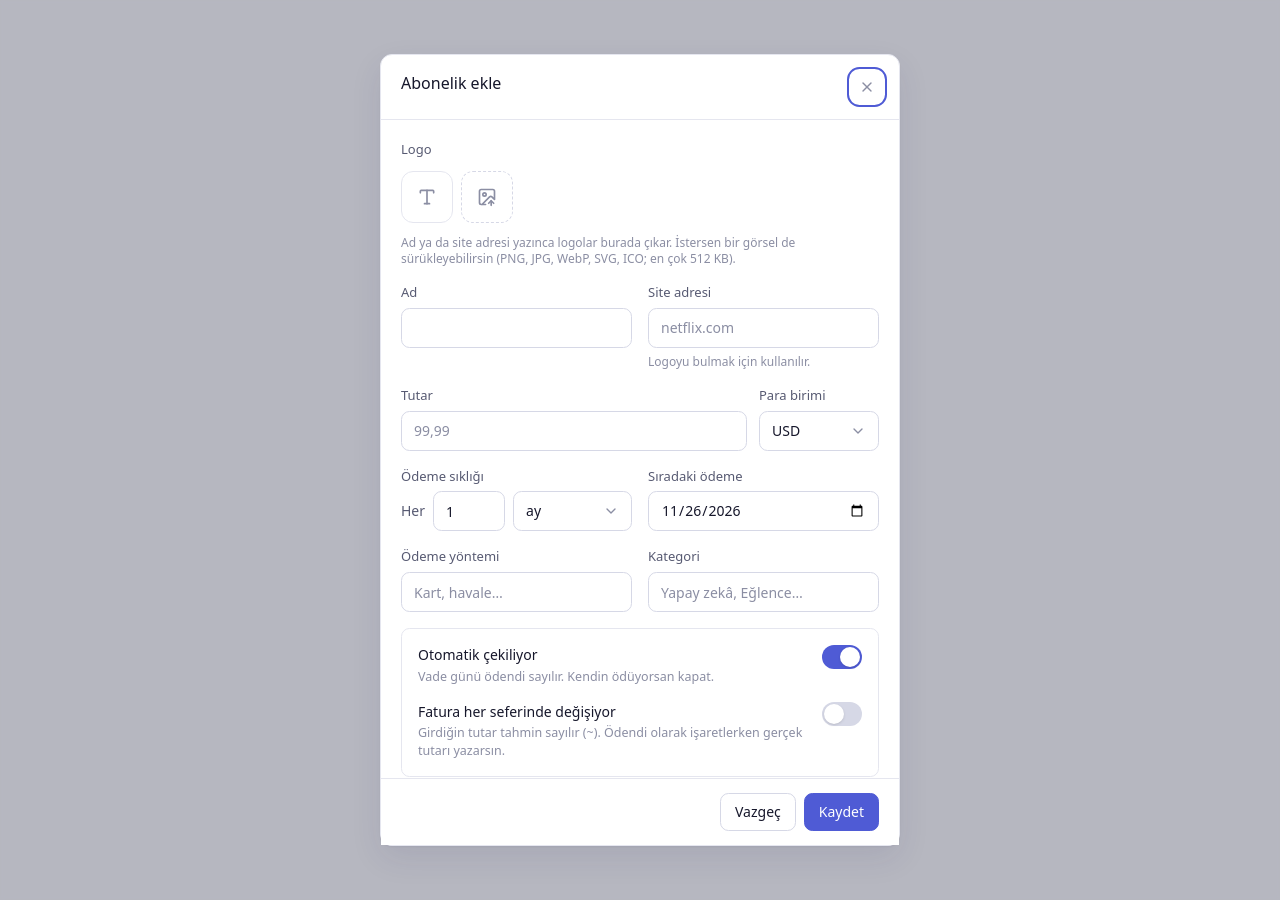
SubscriptionForm › choosing a catalog suggestion fills name, website, category and cycle
In the field labelled "Ad": coordinates (516, 328) x1=401 y1=308 x2=632 y2=348, type "netf"
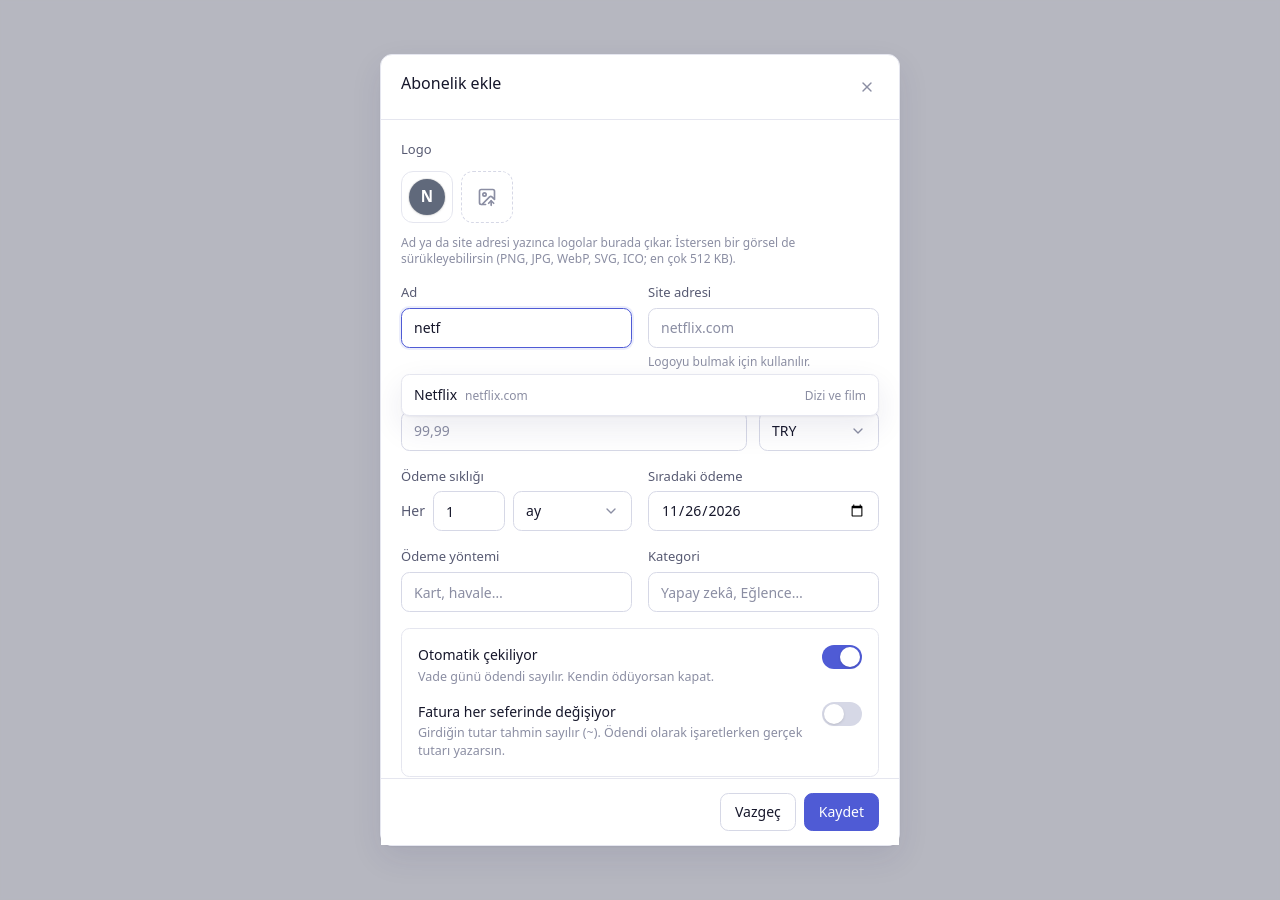
Click the option "Netflix netflix.com Dizi ve film": coordinates (436, 394) x1=402 y1=375 x2=878 y2=415
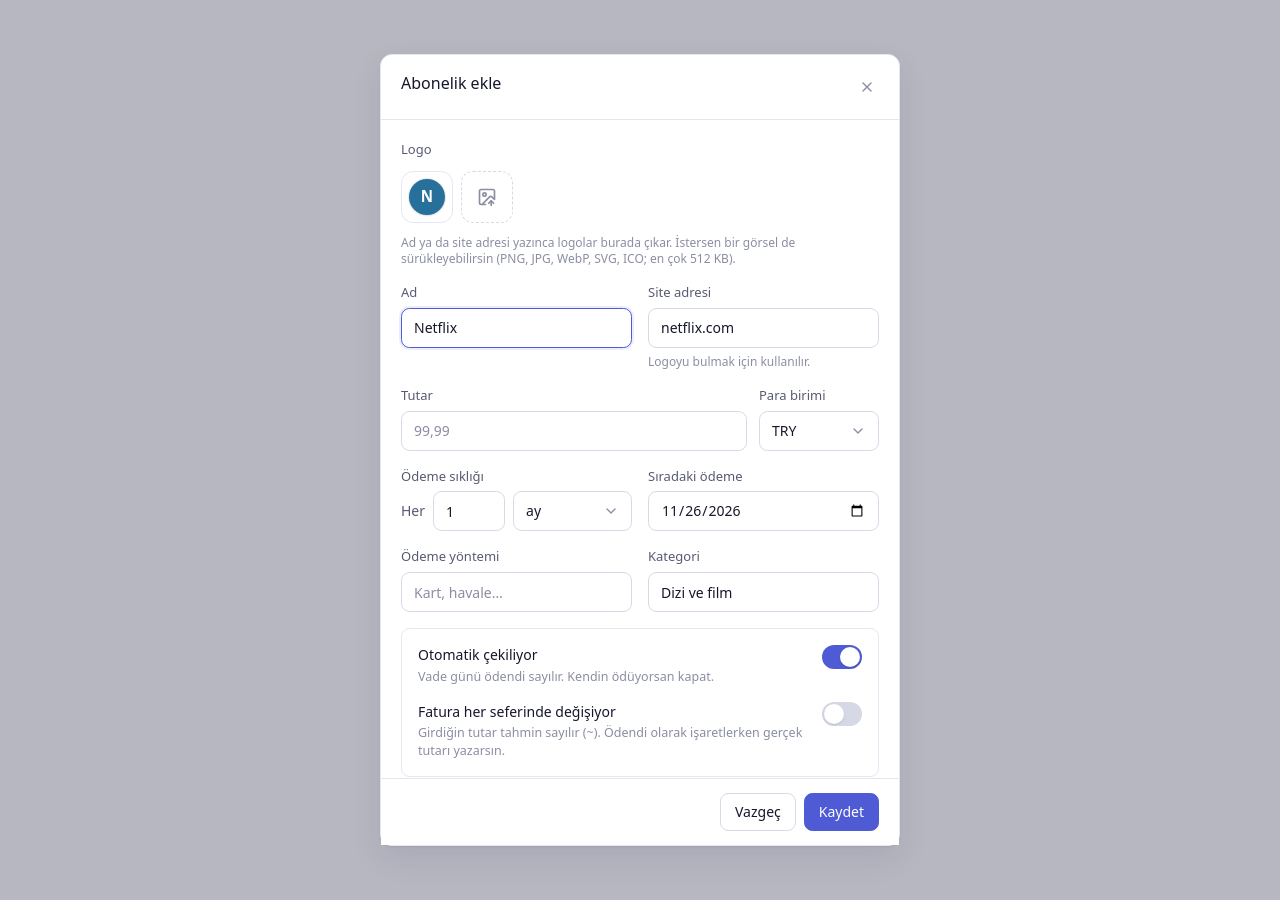
Now the field labelled "Ad" holds "Netflix", box x1=401 y1=308 x2=632 y2=348
Now the field labelled "Site adresi" holds "netflix.com", box x1=648 y1=308 x2=879 y2=348
Now the field labelled "Kategori" holds "Dizi ve film", box x1=648 y1=572 x2=879 y2=612
